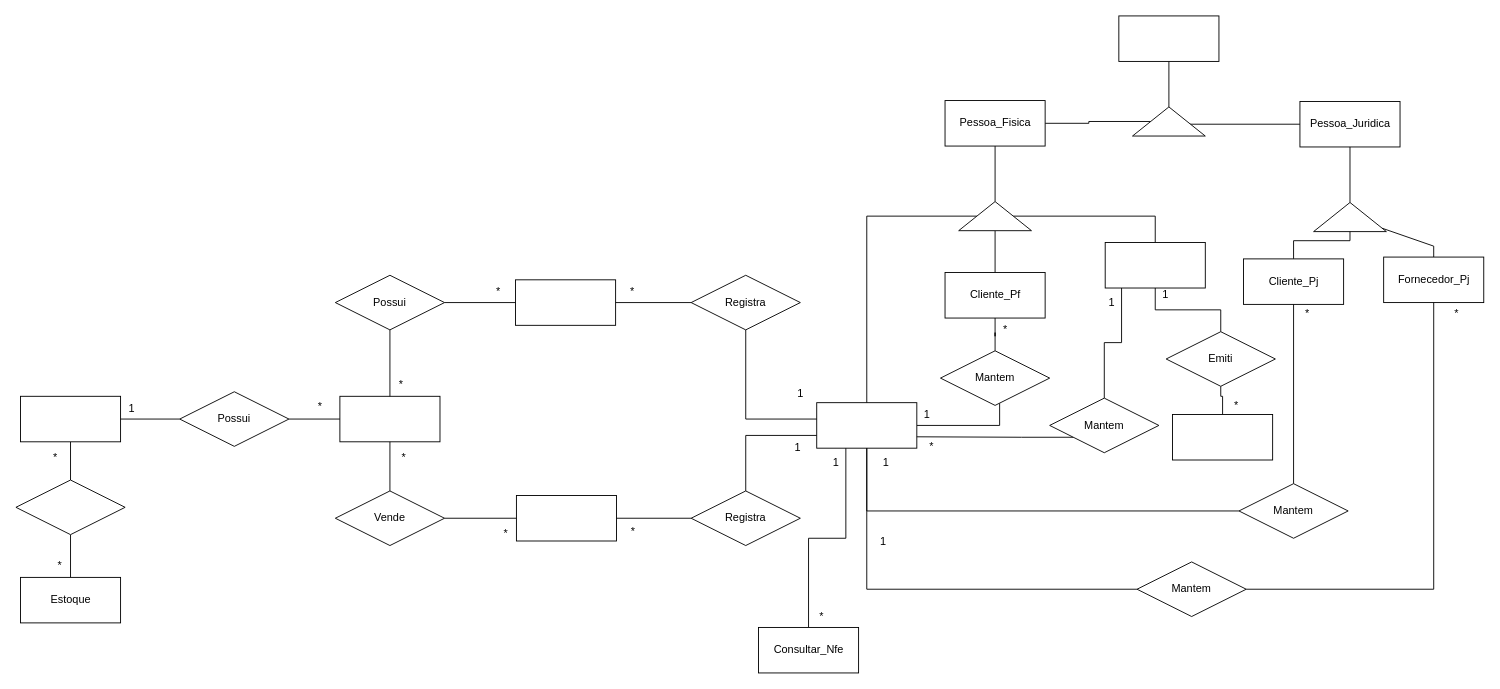
Some shapes in this 1500 by 689 pixel diagram are drawn without their labels. The shapes that lost their labels are listed below. From the top down, each one's centre as x and y in pixels, then its label:
At [1168,38]: "Pesoa".
At [1154,265]: "Gerente".
At [565,302]: "Compra".
At [70,418]: "Produto".
At [389,418]: "ItemProduto".
At [866,425]: "Funcionario".
At [1222,437]: "Relatorios".
At [70,507]: "Mantido em".
At [566,518]: "Venda".
